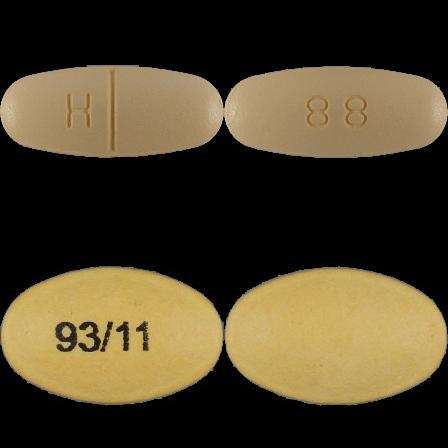61786-192: (0, 0, 224, 224)
